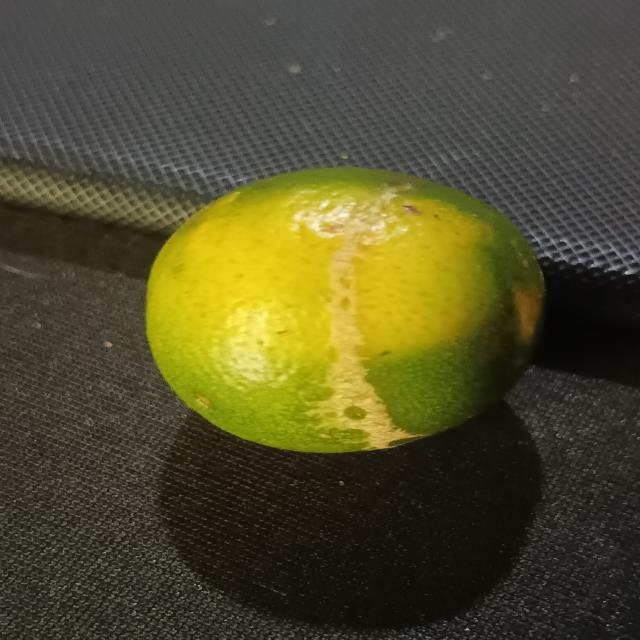thrips: (152, 153, 543, 448)
